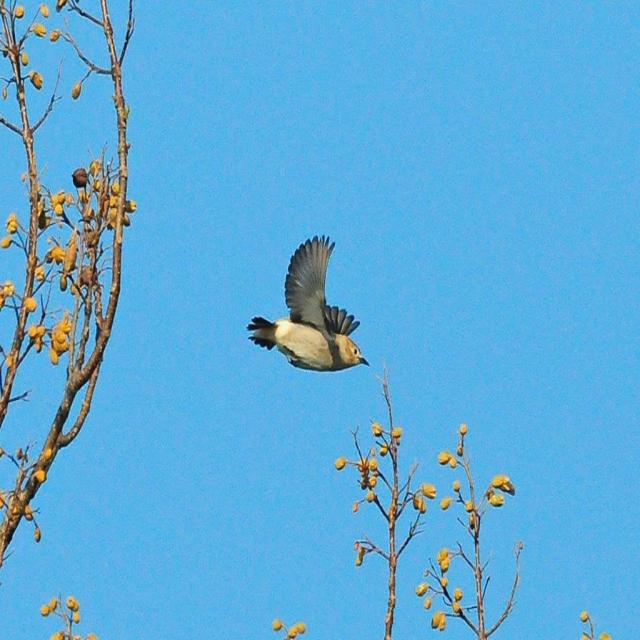bird: (243, 230, 370, 380)
